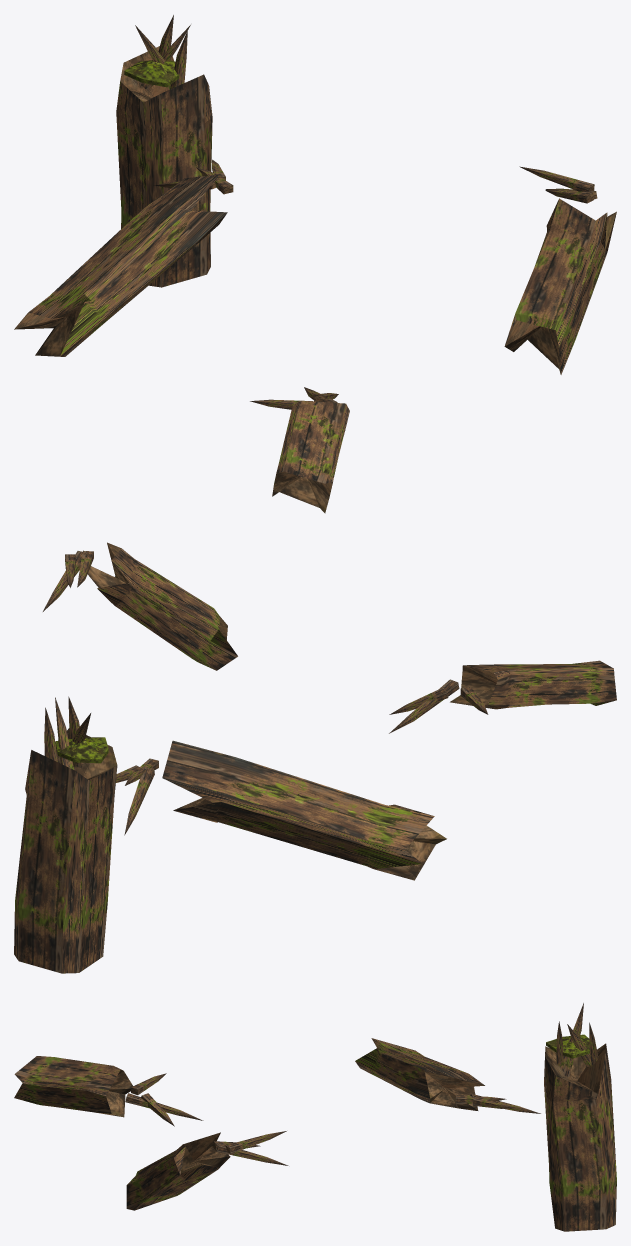
Rendered from SM_BrokenBridge_Debris.glb.
3 renders of one model, top to bottom at view 1: azimuth 30°, elevation 25°; view 2: azimuth 150°, elevation 25°; view 3: azimuth 270°, elevation 25°, orthographic. The views are drawn at different scales.
Parts seen in each view (by area): view 1: SM_BrokenBridge_Debris; view 2: SM_BrokenBridge_Debris; view 3: SM_BrokenBridge_Debris.
Boxes of the visible parts, box(x1,y1,x2,y2) form: SM_BrokenBridge_Debris: box(14, 15, 616, 513); SM_BrokenBridge_Debris: box(14, 542, 616, 973); SM_BrokenBridge_Debris: box(14, 1003, 616, 1231).
Bounding box in the file's own units: 1.77 × 0.8979 × 2.38.
Materials: 1 (1 with a texture image).
